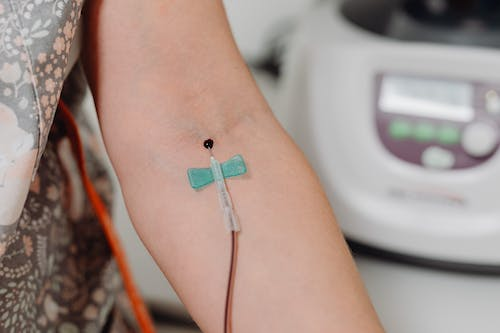blood: (223, 227, 239, 333), (202, 136, 215, 151)
